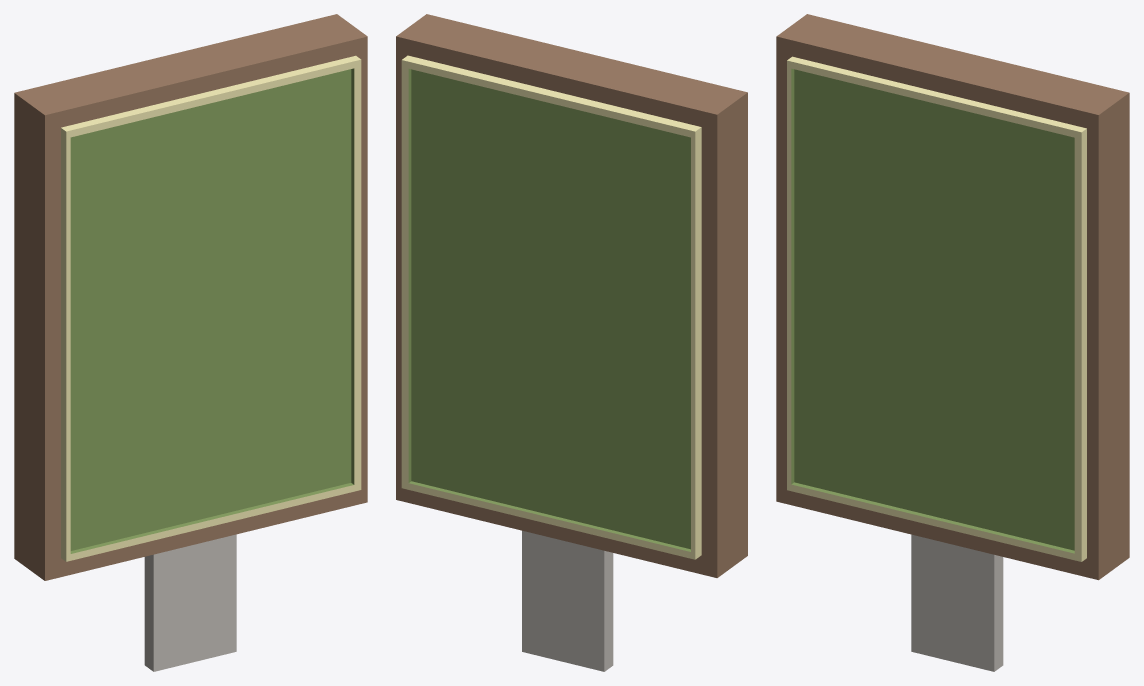
Rendered from props4.fbx.
The picture shows the model from 3 angles, left to right: view 1: azimuth 30°, elevation 25°; view 2: azimuth 150°, elevation 25°; view 3: azimuth 330°, elevation 25°; orthographic projection.
Visible parts, largest first — view 1: b_1; view 2: b_1; view 3: b_1.
Boxes of the visible parts, bbox=[...] form: b_1: bbox=[14, 14, 367, 671]; b_1: bbox=[396, 14, 747, 671]; b_1: bbox=[776, 14, 1129, 671].
Bounding box in the file's own units: 172 × 303 × 39.03.
